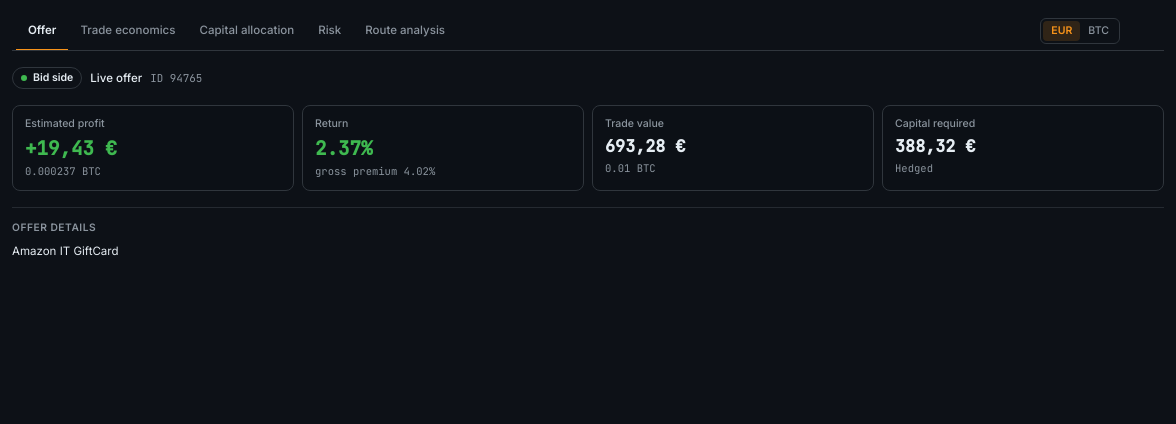
Test: CostBreakdownPanel tabs › switches one panel at a time, including optional route controls
Click the tab "Trade economics". click: (128, 32)
box: [68,12,187,51]
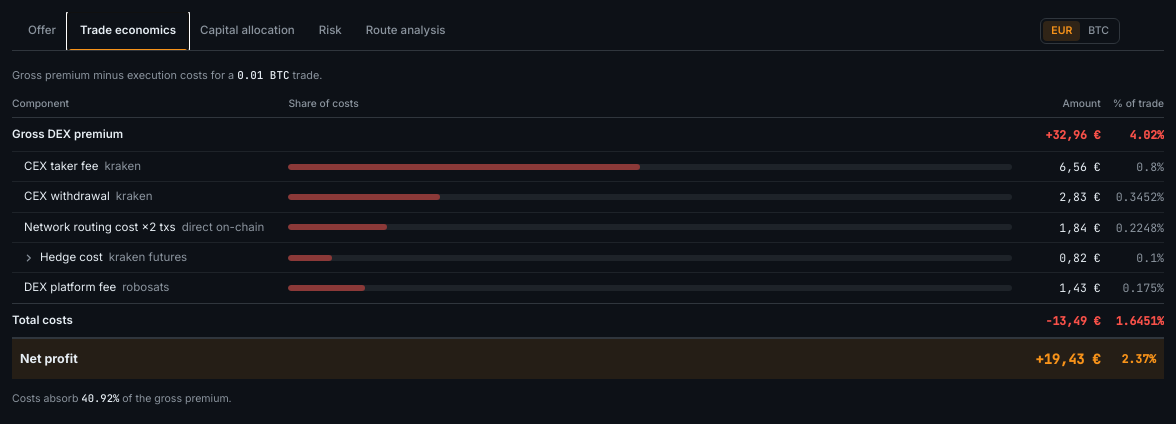
Expected: the panel named "Trade economics" is shown
Expected: the column heading "Total costs" is shown, [12,303,264,338]
Expected: the text "Bid side" is gone
Click the tab "Capital allocation". click: (247, 32)
box: [188,12,307,51]
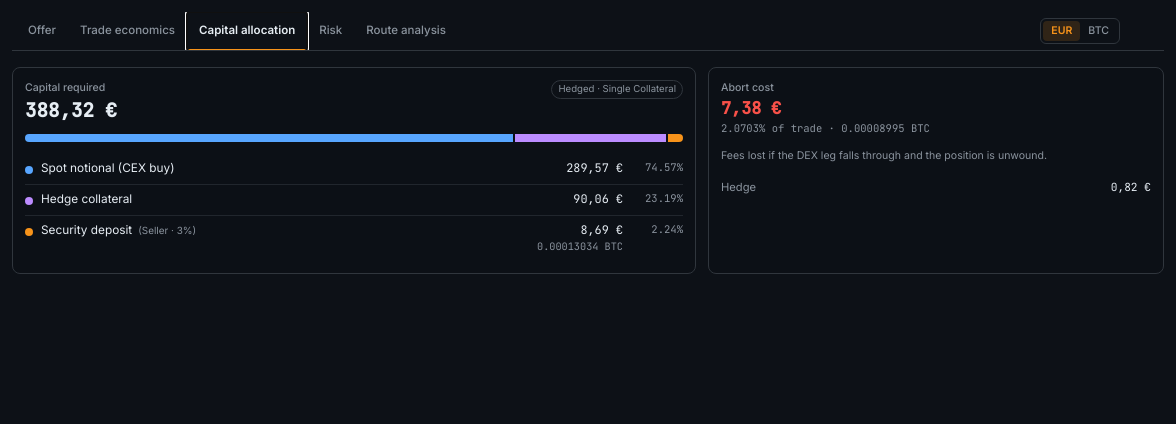
Expected: the panel named "Capital allocation" is shown, [12,67,1164,274]
Expected: the text "Spot notional (CEX buy)" is shown, [41,160,174,178]
Expected: the column heading "Total costs" is gone
Click the tab "Route analysis". click: (406, 32)
box: [354,12,458,51]
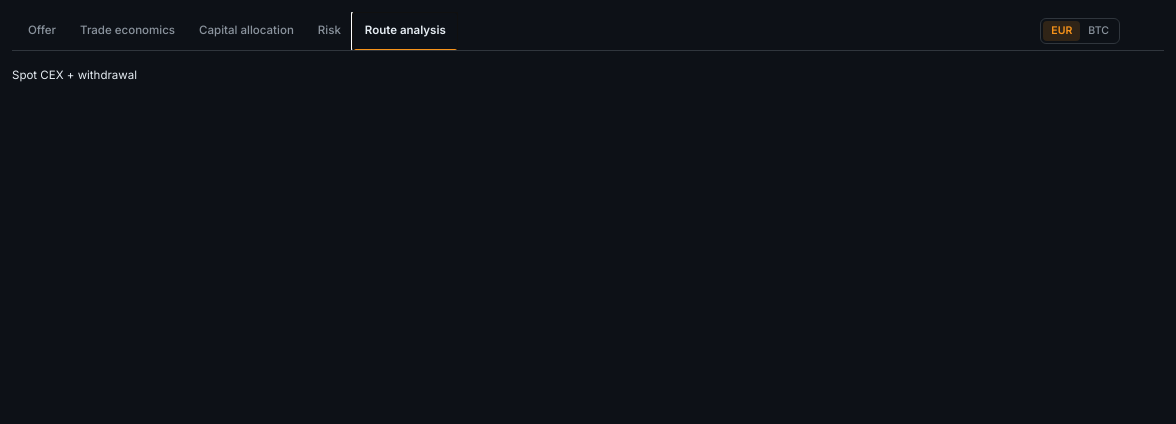
Expected: the column heading "Total costs" is not shown
Expected: the text "Spot CEX + withdrawal" is shown, [12,68,137,82]
Expected: the text "Spot notional (CEX buy)" is gone
